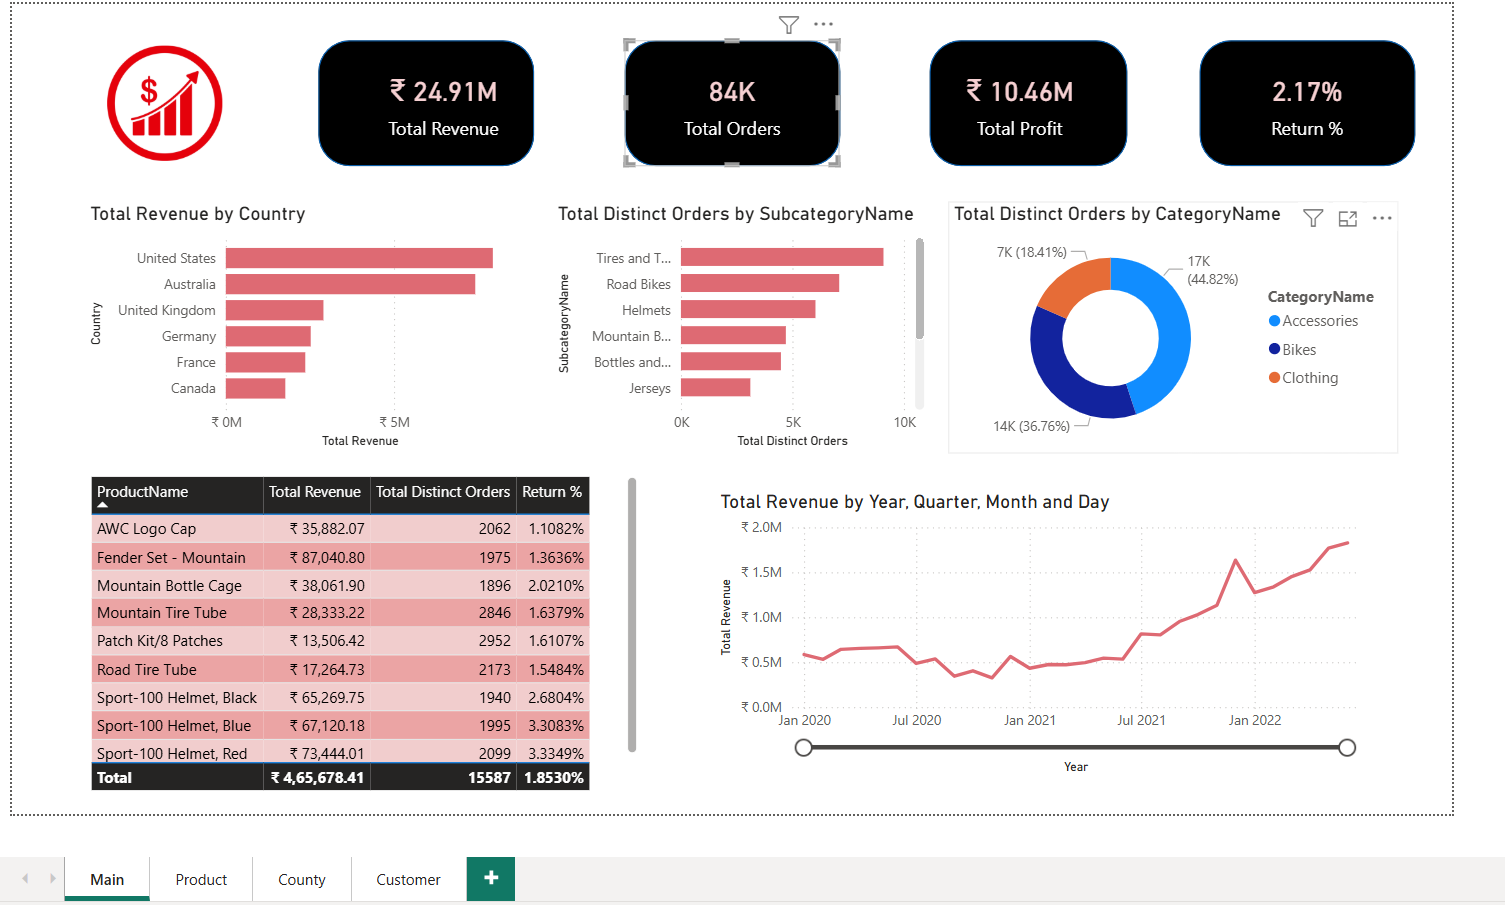

Layout of this report page (visuals, bound fields, positions):
{"tool":"powerbi","page":{"name":"Main","canvas":[1280,720],"ordinal":0},"visuals":[{"type":"shape","box":[272,32,192,112],"z":0},{"type":"shape","box":[1056,32,192,112],"z":2000},{"type":"shape","box":[816,32,176,112],"z":3000},{"type":"shape","box":[544,32,192,112],"z":4000},{"type":"card","fields":{"Values":["Measure Table.Total Orders"]},"box":[576,32,192,112],"z":5000},{"type":"card","fields":{"Values":["Measure Table.Total Revenue"]},"box":[288,32,192,112],"z":6000},{"type":"card","fields":{"Values":["Measure Table.Total Profit"]},"box":[800,32,192,112],"z":7000},{"type":"card","fields":{"Values":["Measure Table.Return %"]},"box":[1056,32,192,112],"z":8000},{"type":"tableEx","fields":{"Values":["Product.ProductName","Measure Table.Total Revenue","Measure Table.Total Distinct Orders","Measure Table.Return %"]},"box":[64,416,496,288],"z":9000},{"type":"clusteredBarChart","fields":{"Category":["Territory.Country"],"Y":["Measure Table.Total Revenue"]},"box":[64,176,384,224],"z":10000},{"type":"donutChart","fields":{"Category":["Product Categories.CategoryName"],"Y":["Measure Table.Total Distinct Orders"]},"box":[832,176,400,224],"z":11000},{"type":"lineChart","fields":{"Y":["Measure Table.Total Revenue"],"Category":["Calendar.First Day of Month.Variation.Date Hierarchy.Year","Calendar.First Day of Month.Variation.Date Hierarchy.Quarter","Calendar.First Day of Month.Variation.Date Hierarchy.Month","Calendar.First Day of Month.Variation.Date Hierarchy.Day"]},"box":[624,432,592,256],"z":12000},{"type":"clusteredBarChart","fields":{"Category":["Product Subcategories.SubcategoryName"],"Y":["Measure Table.Total Distinct Orders"]},"box":[480,176,336,224],"z":13000},{"type":"image","box":[48,32,176,112],"z":13001}]}

Visuals, with their boxes on the page's 1280x720 design canvas (x1, y1, x2, y2). These are canvas units, not pixel positions in the 1505x905 screenshot, which may show the page scaled, cropped or inside an application window:
shape: region(272, 32, 464, 144)
shape: region(1056, 32, 1248, 144)
shape: region(816, 32, 992, 144)
shape: region(544, 32, 736, 144)
card - Measure Table.Total Orders: region(576, 32, 768, 144)
card - Measure Table.Total Revenue: region(288, 32, 480, 144)
card - Measure Table.Total Profit: region(800, 32, 992, 144)
card - Measure Table.Return %: region(1056, 32, 1248, 144)
tableEx - Product.ProductName x Measure Table.Total Revenue: region(64, 416, 560, 704)
clusteredBarChart - Territory.Country x Measure Table.Total Revenue: region(64, 176, 448, 400)
donutChart - Product Categories.CategoryName x Measure Table.Total Distinct Orders: region(832, 176, 1232, 400)
lineChart - Measure Table.Total Revenue x Calendar.First Day of Month.Variation.Date Hierarchy.Year: region(624, 432, 1216, 688)
clusteredBarChart - Product Subcategories.SubcategoryName x Measure Table.Total Distinct Orders: region(480, 176, 816, 400)
image: region(48, 32, 224, 144)
